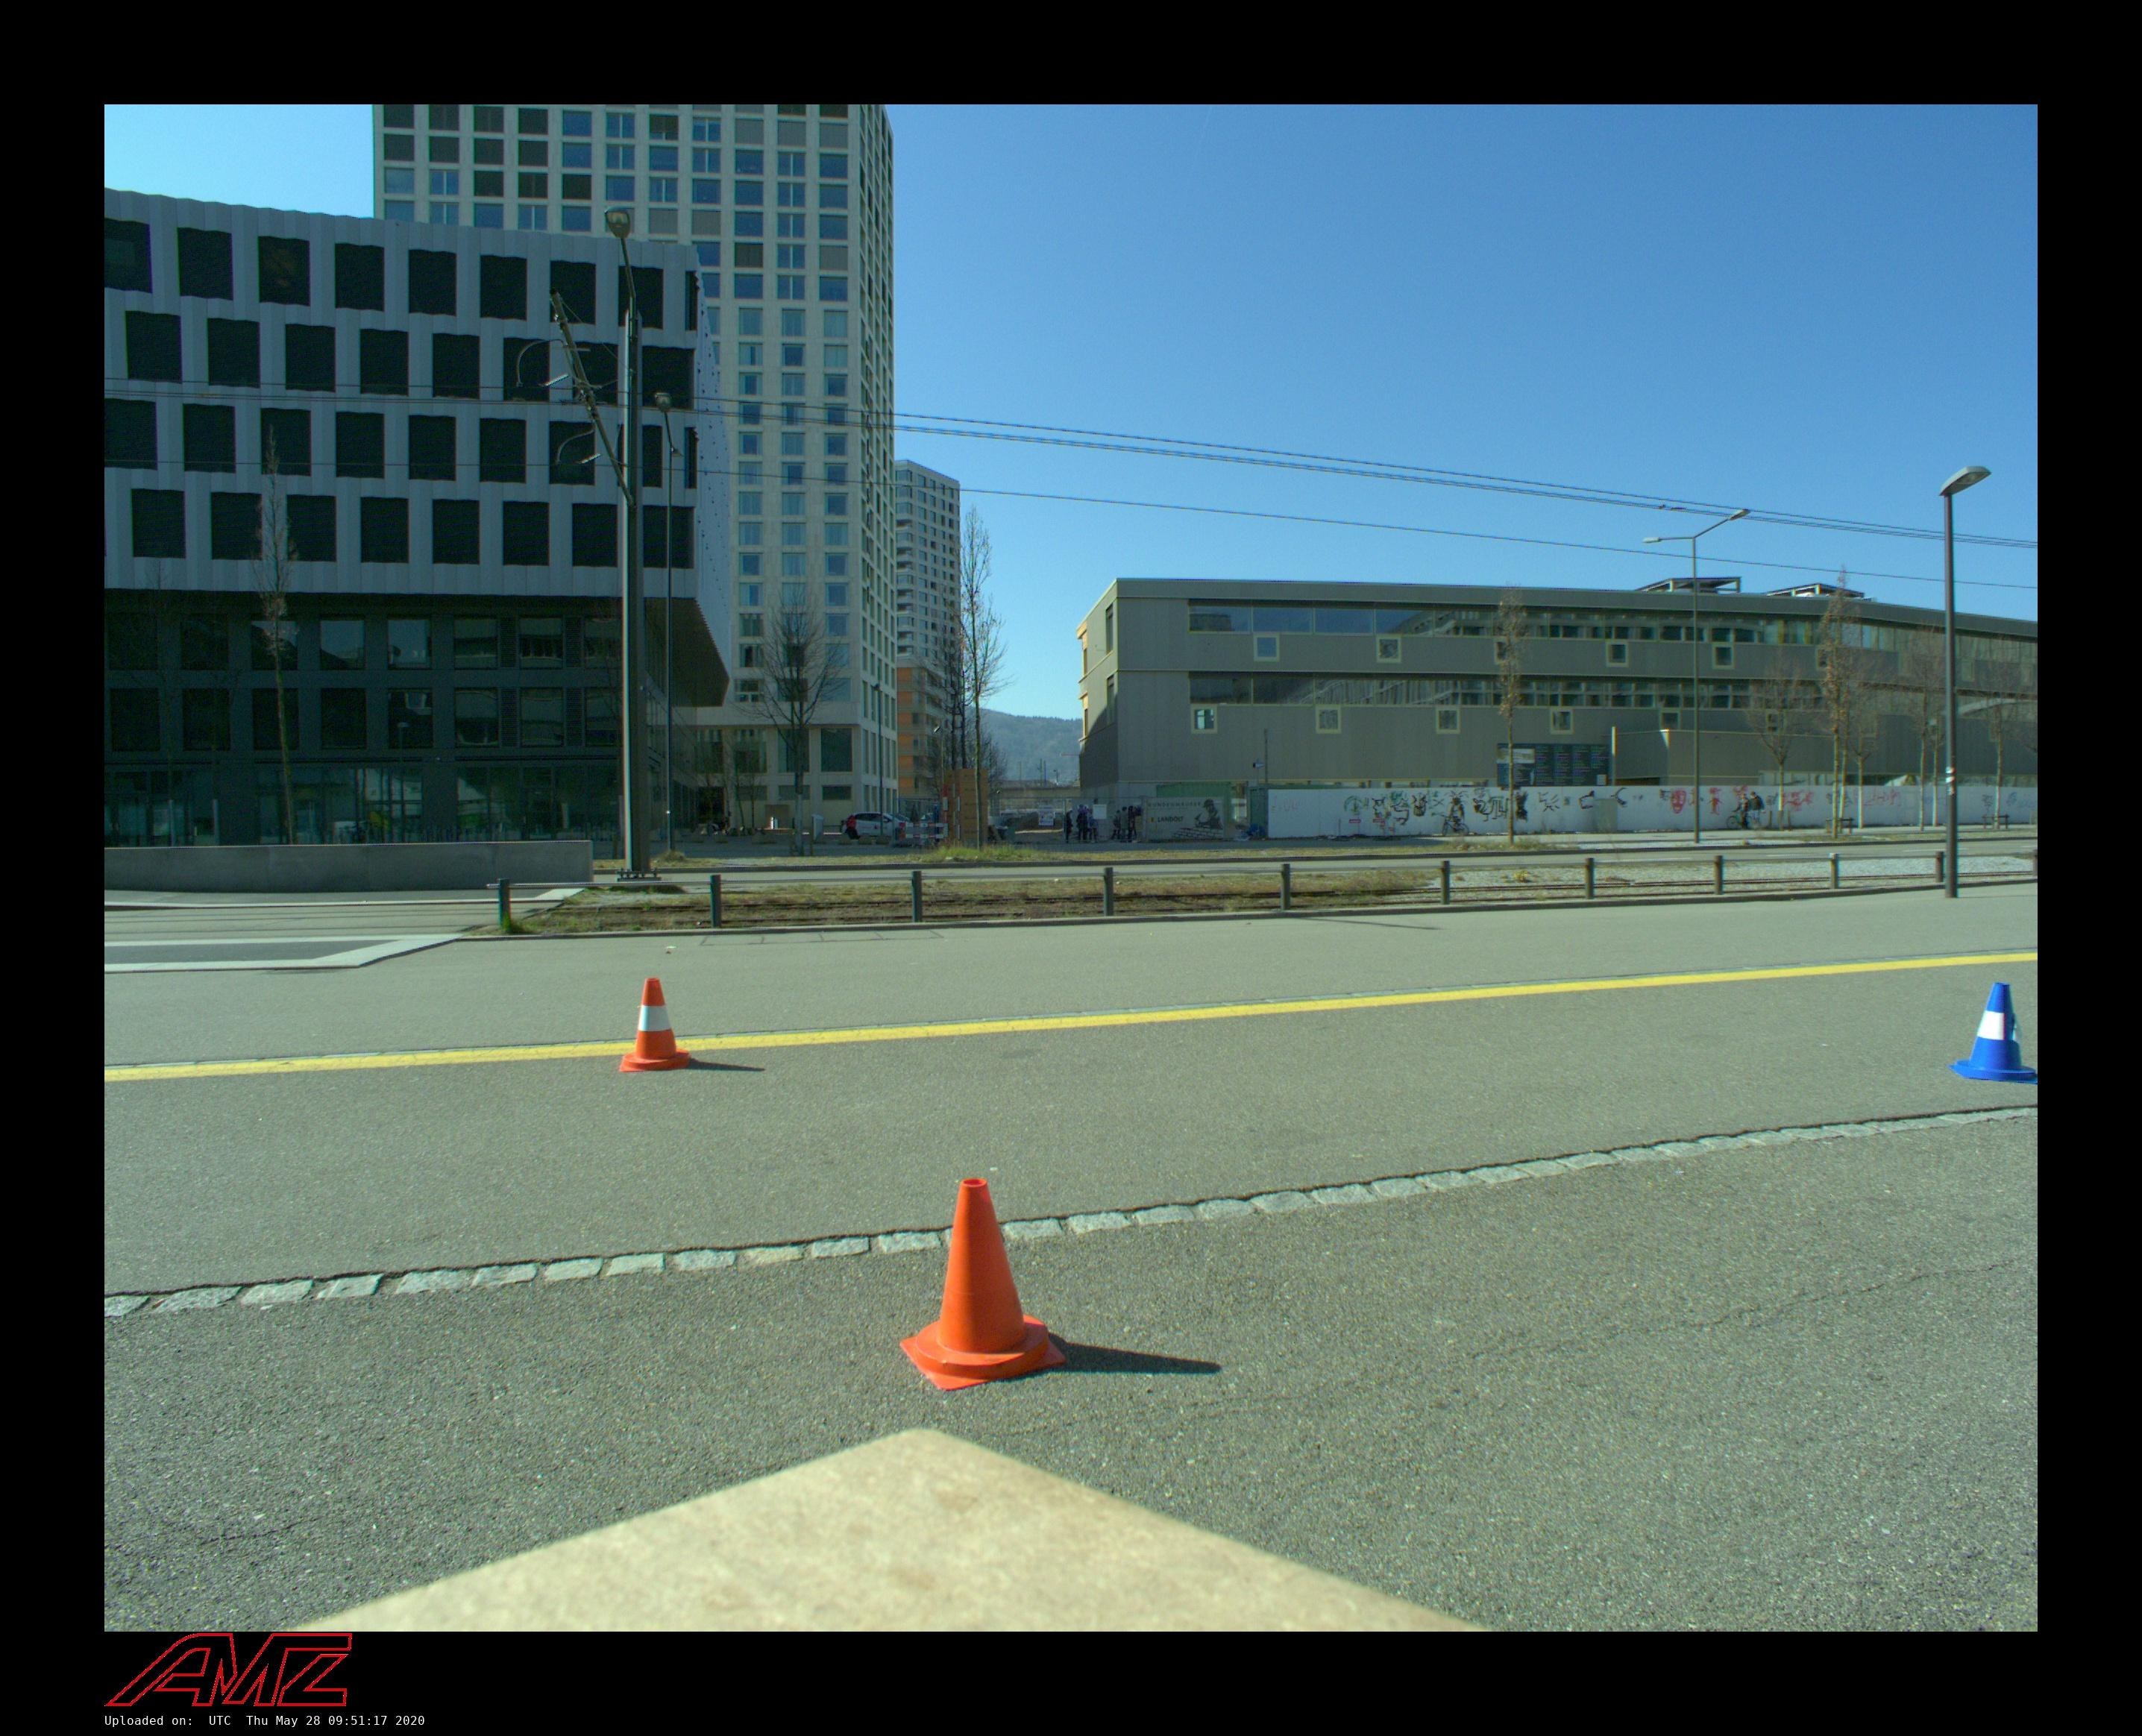blue_cone: (1947, 983, 2037, 1084)
orange_cone: (900, 1178, 1067, 1391), (620, 978, 691, 1072)
